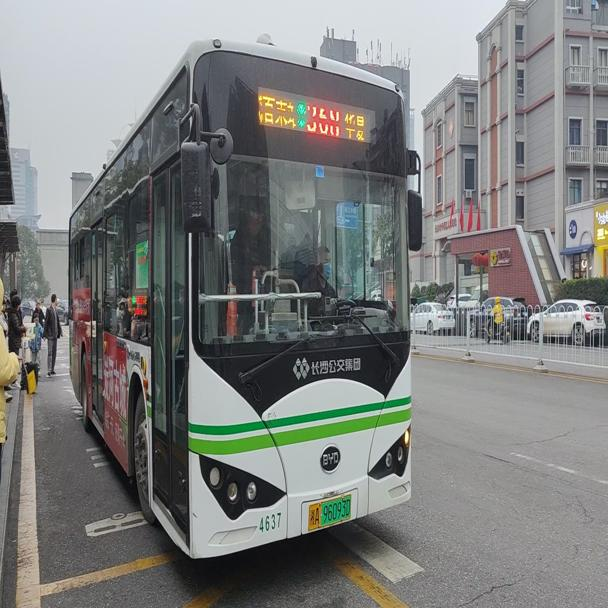bus: (66, 33, 421, 562)
screen: (306, 99, 343, 140)
